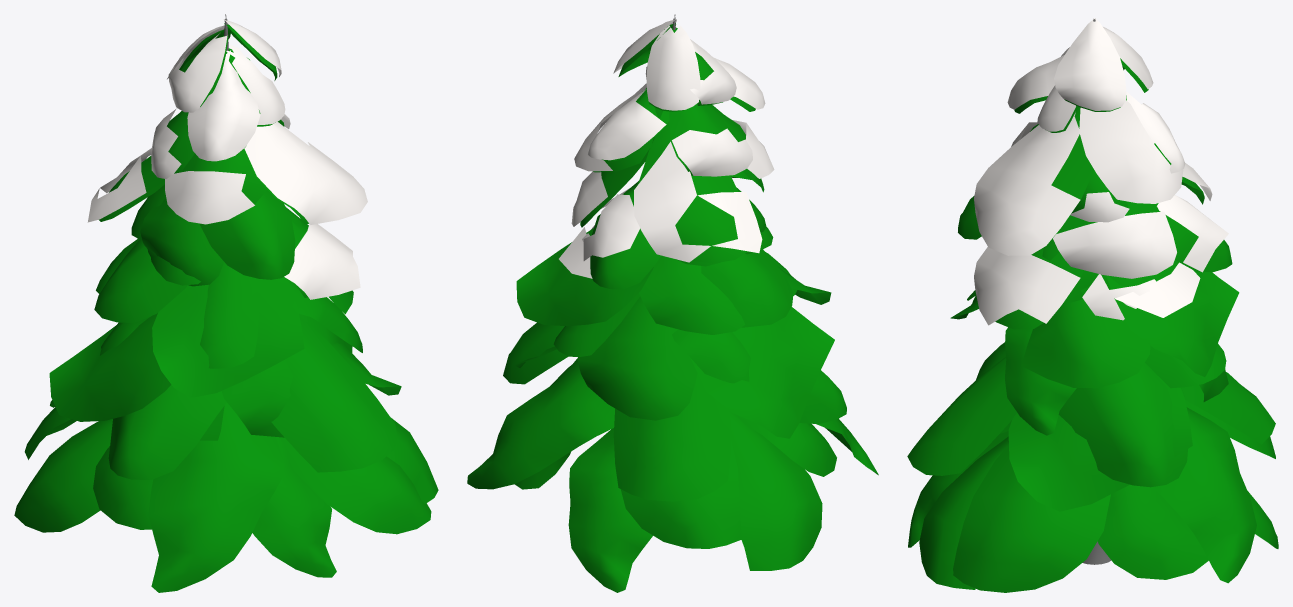
File: SnowTree1.dae
3 views of the same model, side by side, from view 1: azimuth 30°, elevation 25°; view 2: azimuth 150°, elevation 25°; view 3: azimuth 270°, elevation 25° (orthographic). The views are drawn at different scales.
Parts seen in each view (by area): view 1: SM_SnowTree; view 2: SM_SnowTree; view 3: SM_SnowTree.
Part boxes in pixels (box(x1,y1,x2,y2)): SM_SnowTree: box(14, 14, 438, 592); SM_SnowTree: box(467, 14, 878, 592); SM_SnowTree: box(907, 18, 1278, 592).
Bounding box in the file's own units: 8.15 × 7.66 × 12.44.
